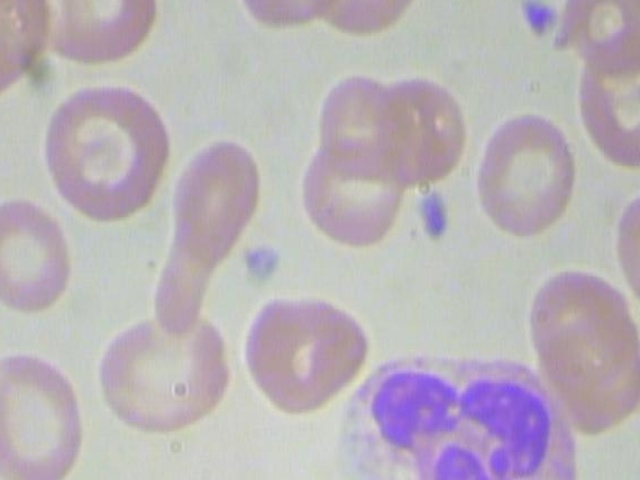Platelets: (233, 239, 283, 289), (417, 186, 456, 249), (519, 0, 571, 38), (144, 476, 195, 480)
RBC: (144, 133, 267, 338), (38, 81, 180, 225), (91, 300, 234, 442), (240, 283, 378, 428), (466, 103, 593, 247), (527, 306, 640, 441), (521, 263, 640, 372), (363, 71, 469, 189), (297, 131, 402, 249), (0, 351, 95, 480), (24, 0, 167, 71), (0, 185, 77, 315), (308, 61, 404, 164), (552, 0, 640, 78)
WBC: (313, 344, 571, 480)
